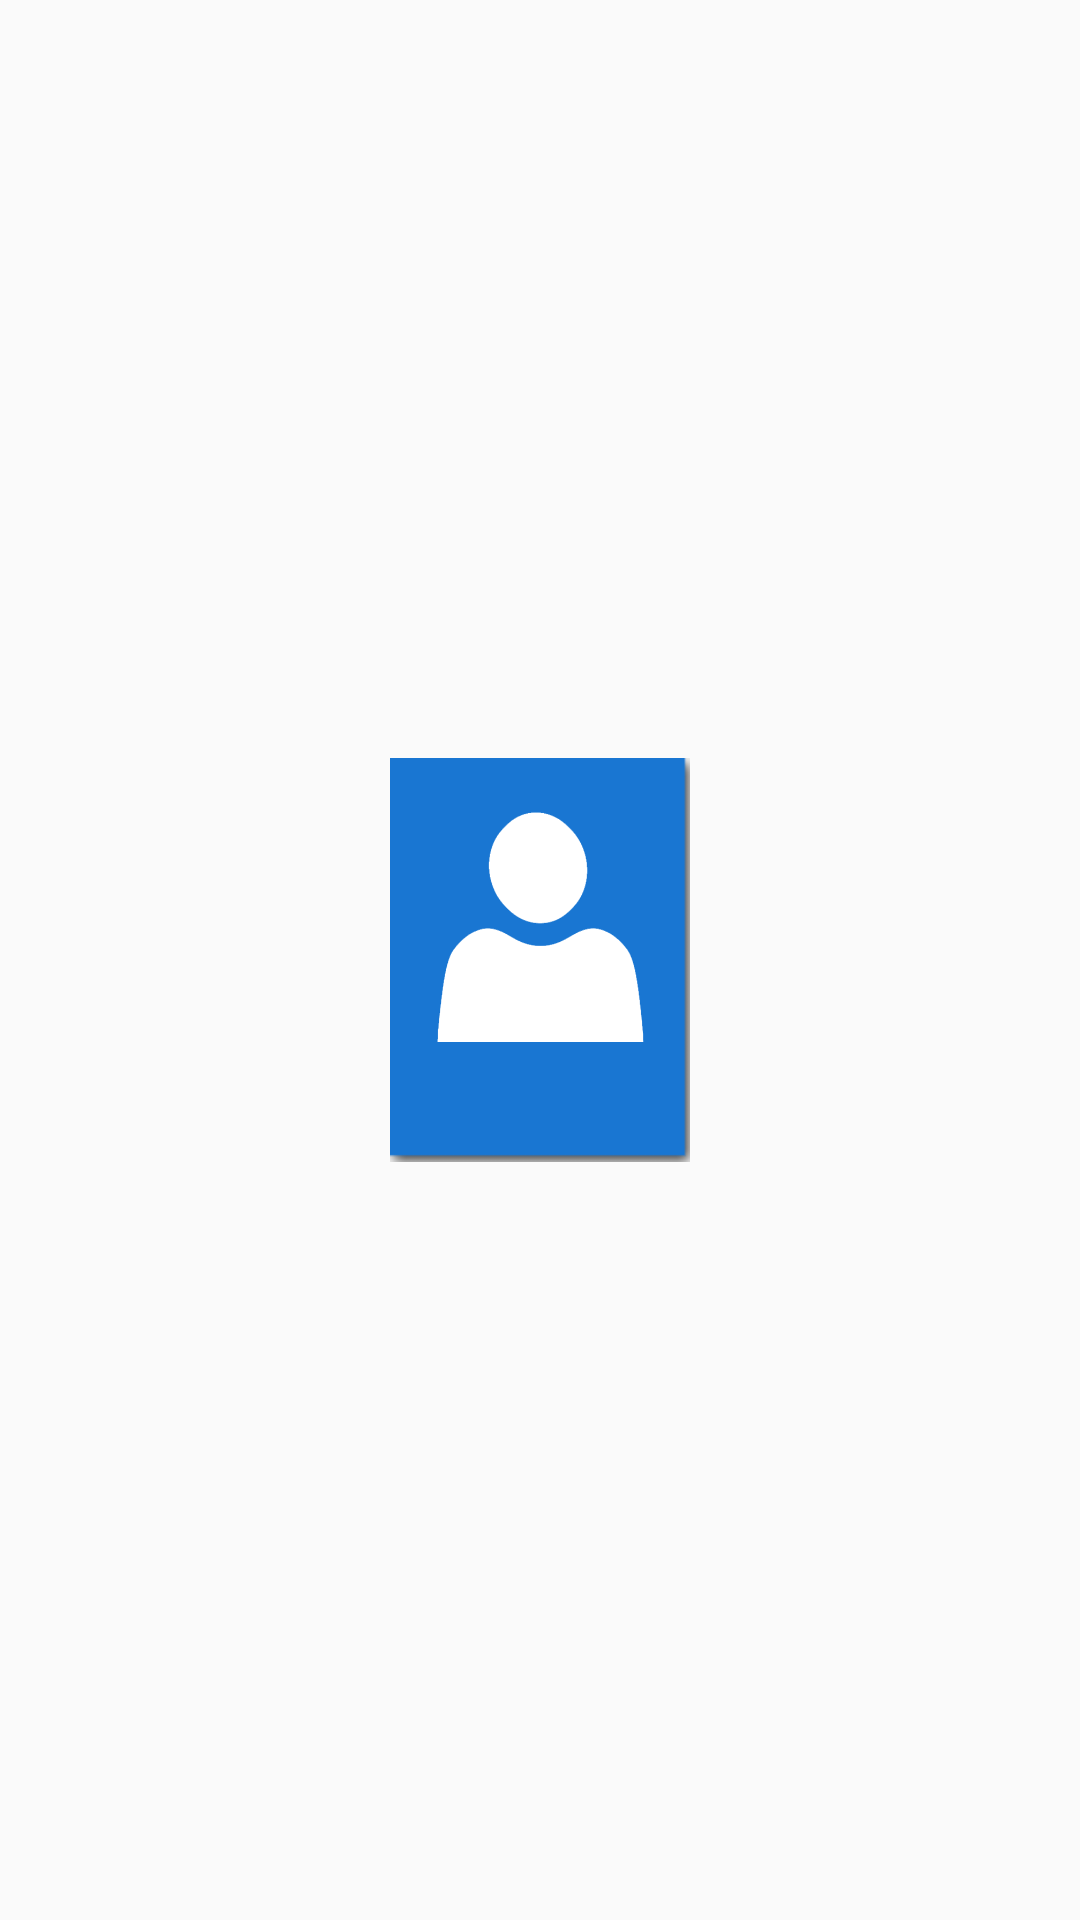

Named icons in this screenshot (1080 × 1920) and their centers, (x,y):
defaultpic: (540,927)
